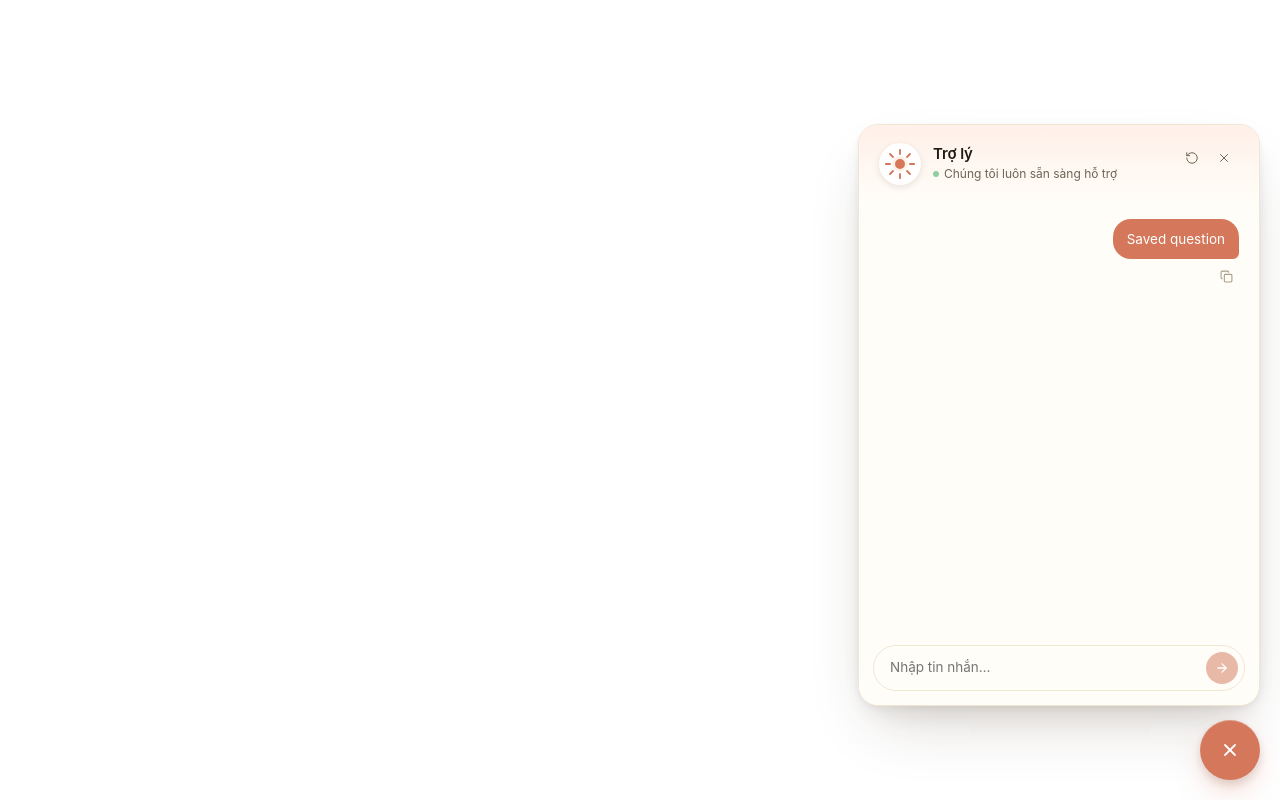
Test: AgentChatWidget — typewriter integration › clears stored history for the current session when reset is pressed
Click the button named "Reset session".
click(1192, 158)  # box [1177, 143, 1207, 173]
Wait 100 ms
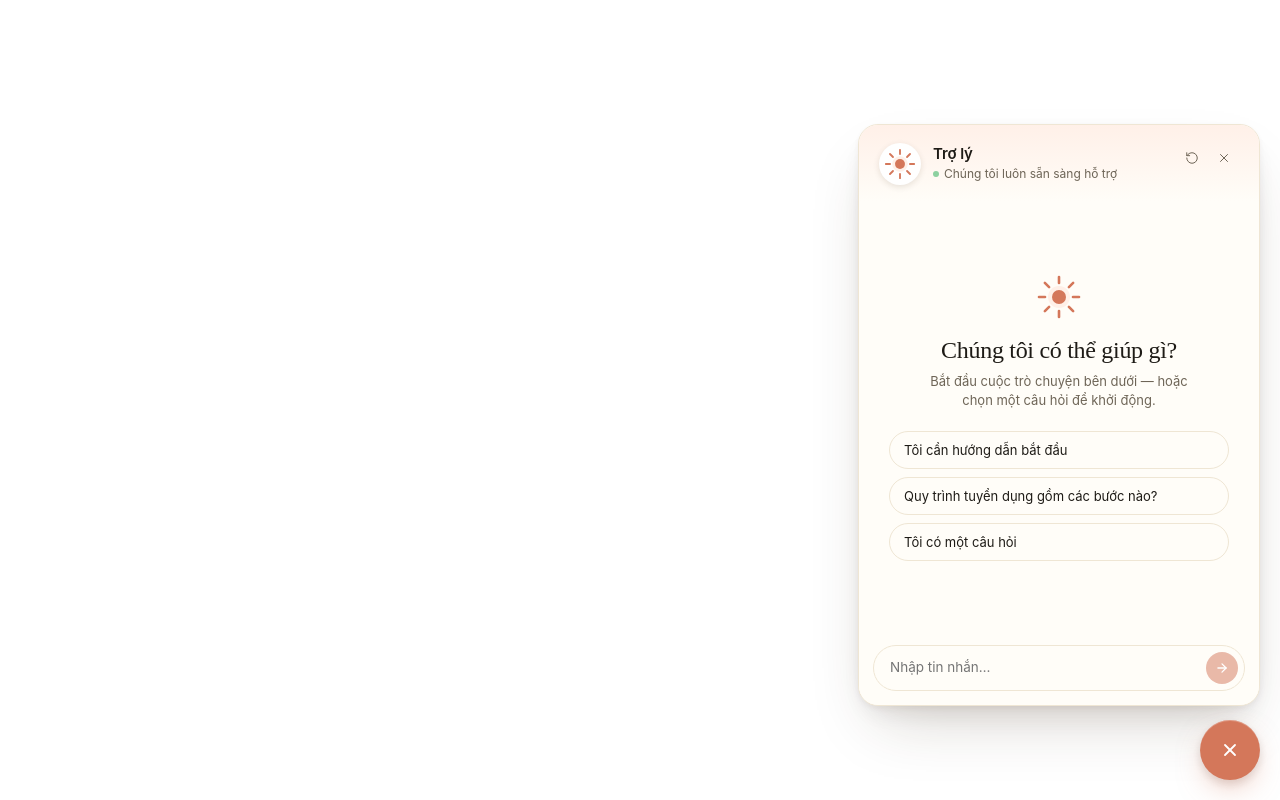
Check: the text "Saved question" is gone
